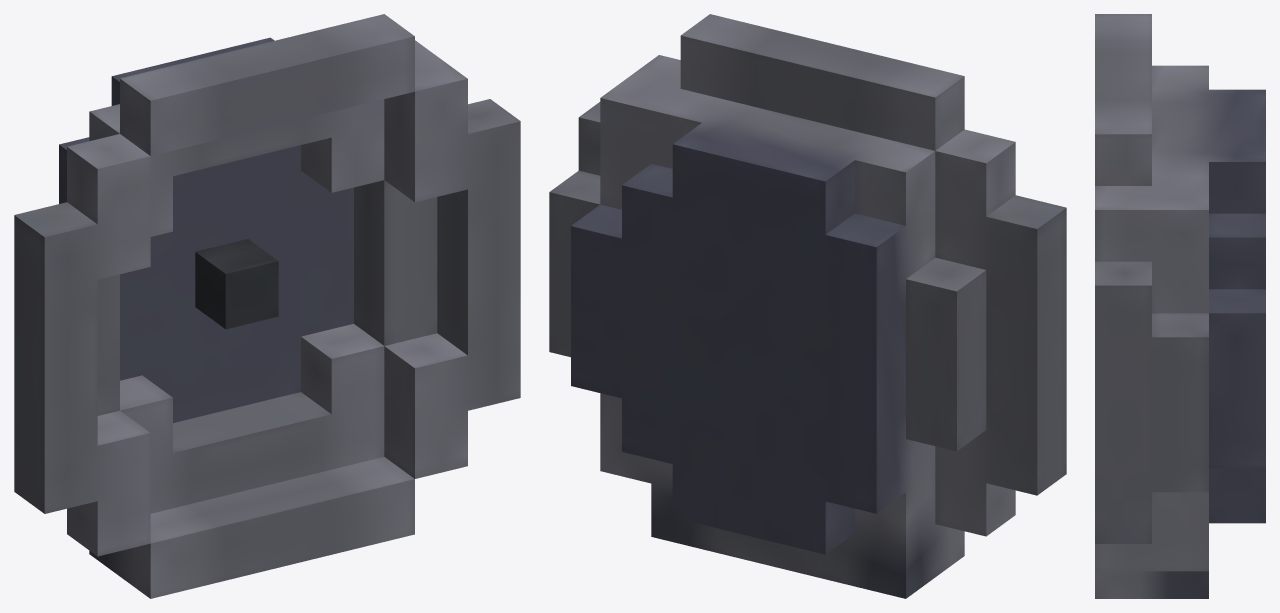
File: SateliteDish.glb
The picture shows the model from 3 angles, left to right: view 1: azimuth 30°, elevation 25°; view 2: azimuth 150°, elevation 25°; view 3: azimuth 270°, elevation 25°; orthographic projection. The views are drawn at different scales.
Parts seen in each view (by area): view 1: SateliteDish; view 2: SateliteDish; view 3: SateliteDish.
Part boxes in pixels (x1,y1,x2,y2): SateliteDish: (14, 14, 520, 598); SateliteDish: (549, 14, 1066, 598); SateliteDish: (1095, 14, 1265, 598).
Size of the model in its own units: 0.9 by 0.9 by 0.3.
Materials: 1 (1 with a texture image).
